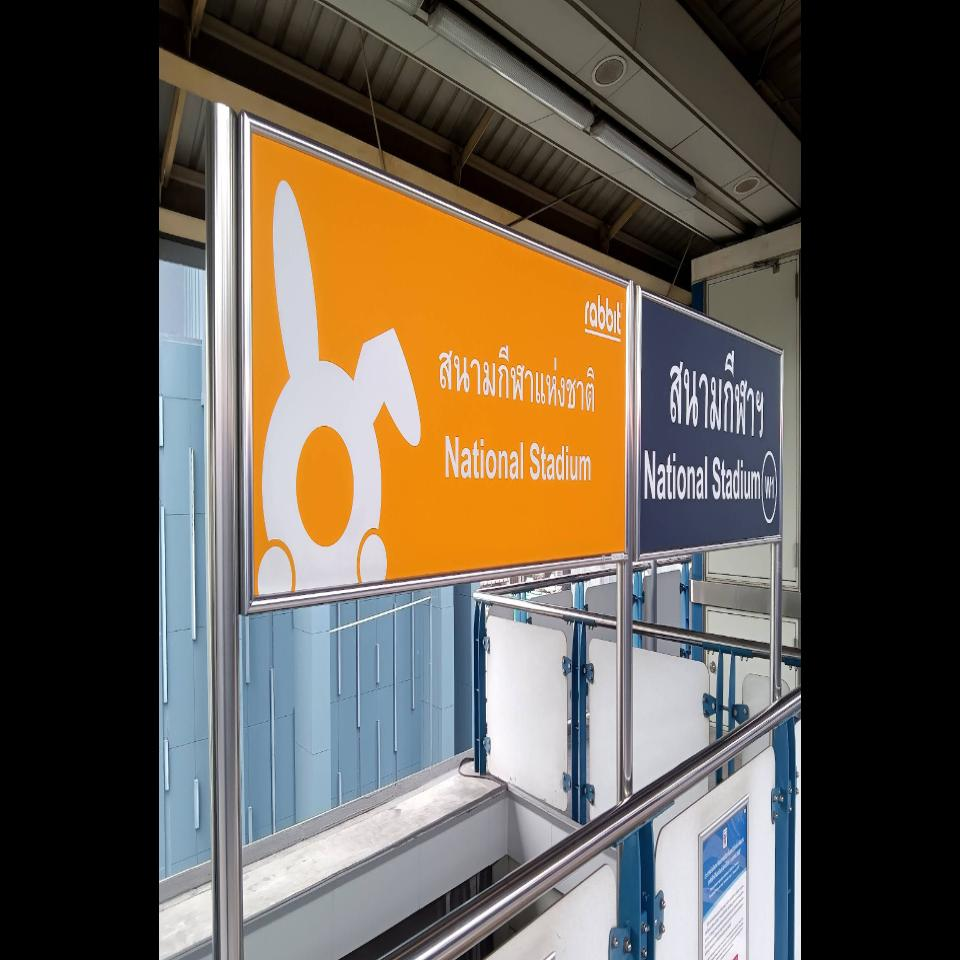National Stadium: (238, 112, 634, 616), (635, 285, 784, 562)
